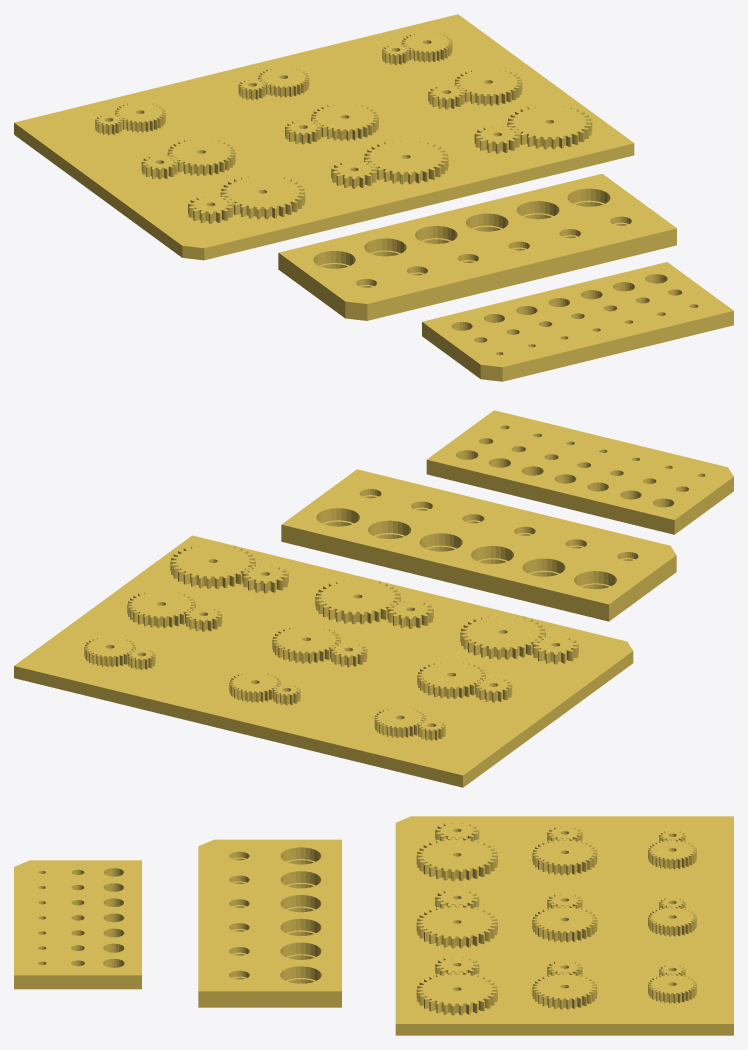
File: tolerance_coupons.dae
3 renders of one model, top to bottom at view 1: azimuth 30°, elevation 25°; view 2: azimuth 150°, elevation 25°; view 3: azimuth 270°, elevation 25°, orthographic. The views are drawn at different scales.
Parts seen in each view (by area): view 1: gear_board, bearing_coupon, fit_coupon, gear_m1_b0p20_30, gear_m1_b0p15_30, gear_m1_b0p10_30, gear_m0p8_b0p10_30, gear_m0p8_b0p15_30, gear_m0p8_b0p20_30, gear_m0p6_b0p15_30, gear_m0p6_b0p20_30, gear_m0p6_b0p10_30 (+6 smaller); view 2: gear_board, bearing_coupon, fit_coupon, gear_m1_b0p15_30, gear_m1_b0p10_30, gear_m1_b0p20_30, gear_m0p8_b0p10_30, gear_m0p8_b0p15_30, gear_m0p8_b0p20_30, gear_m0p6_b0p15_30, gear_m0p6_b0p20_30, gear_m0p6_b0p10_30 (+6 smaller); view 3: gear_board, bearing_coupon, fit_coupon, gear_m1_b0p10_30, gear_m1_b0p15_30, gear_m1_b0p20_30, gear_m0p8_b0p10_30, gear_m0p8_b0p15_30, gear_m0p8_b0p20_30, gear_m0p6_b0p10_30, gear_m0p6_b0p15_30, gear_m0p6_b0p20_30 (+6 smaller).
Boxes of the visible parts, <box> form: gear_board: <box>14,14,634,260</box>; bearing_coupon: <box>278,173,676,320</box>; fit_coupon: <box>422,262,733,381</box>; gear_m1_b0p20_30: <box>507,104,592,149</box>; gear_m1_b0p15_30: <box>364,139,448,184</box>; gear_m1_b0p10_30: <box>220,174,305,219</box>; gear_m0p8_b0p10_30: <box>167,137,235,175</box>; gear_m0p8_b0p15_30: <box>311,102,378,140</box>; gear_m0p8_b0p20_30: <box>454,67,522,105</box>; gear_m0p6_b0p15_30: <box>258,66,309,97</box>; gear_m0p6_b0p20_30: <box>401,31,452,62</box>; gear_m0p6_b0p10_30: <box>115,101,165,132</box>; gear_board: <box>14,535,633,787</box>; bearing_coupon: <box>281,469,676,621</box>; fit_coupon: <box>426,410,733,534</box>; gear_m1_b0p15_30: <box>315,578,400,624</box>; gear_m1_b0p10_30: <box>460,614,545,659</box>; gear_m1_b0p20_30: <box>170,543,255,588</box>; gear_m0p8_b0p10_30: <box>417,660,485,698</box>; gear_m0p8_b0p15_30: <box>272,625,340,663</box>; gear_m0p8_b0p20_30: <box>127,589,195,627</box>; gear_m0p6_b0p15_30: <box>229,671,280,702</box>; gear_m0p6_b0p20_30: <box>84,636,135,667</box>; gear_m0p6_b0p10_30: <box>374,706,425,737</box>; gear_board: <box>395,816,733,1035</box>; bearing_coupon: <box>198,839,341,1007</box>; fit_coupon: <box>14,860,141,989</box>; gear_m1_b0p10_30: <box>416,837,497,881</box>; gear_m1_b0p15_30: <box>416,904,497,948</box>; gear_m1_b0p20_30: <box>416,972,497,1015</box>; gear_m0p8_b0p10_30: <box>532,838,597,875</box>; gear_m0p8_b0p15_30: <box>532,905,597,942</box>; gear_m0p8_b0p20_30: <box>532,973,597,1009</box>; gear_m0p6_b0p10_30: <box>648,839,696,869</box>; gear_m0p6_b0p15_30: <box>648,906,696,936</box>; gear_m0p6_b0p20_30: <box>648,974,696,1003</box>.
Bounding box in the file's own units: 192 × 281 × 9.5.
